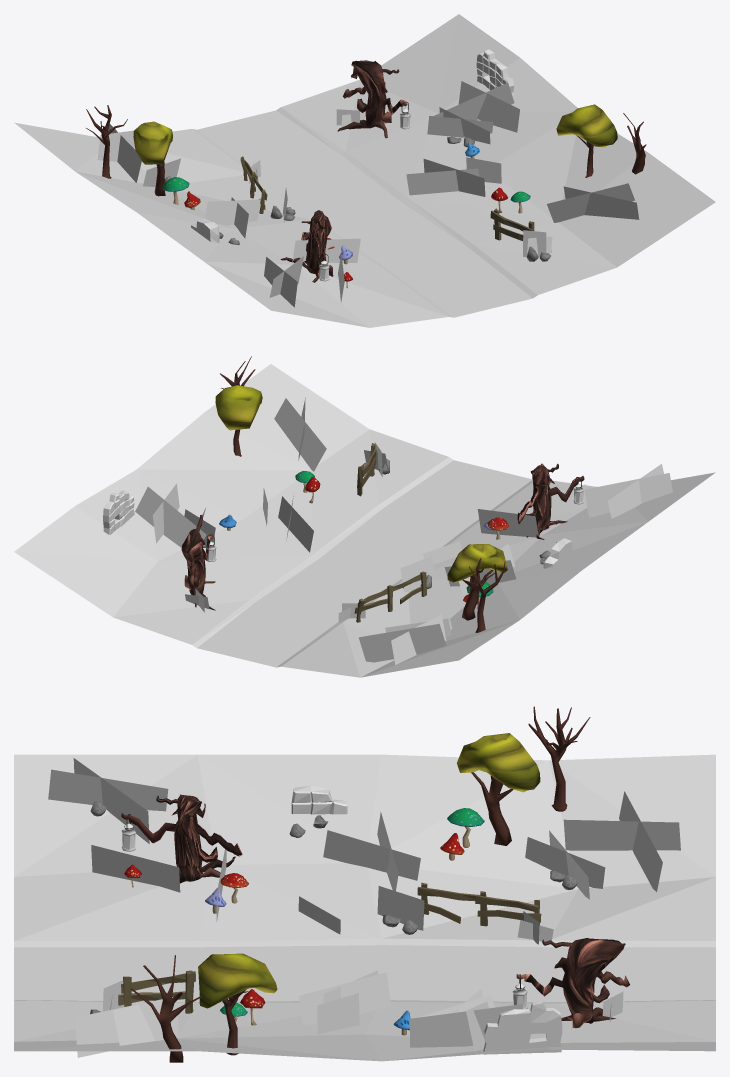
The model's file is environment1.fbx.
3 renders of one model, top to bottom at view 1: azimuth 30°, elevation 25°; view 2: azimuth 150°, elevation 25°; view 3: azimuth 270°, elevation 25°, orthographic. The views are drawn at different scales.
Visible parts, largest first — view 1: zemin1, Cylinder.015, Sphere.001, Cylinder.014, Sphere, Plane.064, Plane.056, Plane.057, Plane.052, Plane.030, Cube.004, Plane.023 (+10 smaller); view 2: zemin1, Plane.048, Cylinder.014, Plane.051, Sphere.001, Plane.057, Plane.063, Sphere, Cylinder.015, Plane.023, Cube.004, LowPolyFence_01 (+8 smaller); view 3: zemin1, Cylinder.015, Cylinder.014, Sphere, Cube.004, Plane.047, Sphere.001, Plane.031, Plane.064, Plane.029, Plane.022, Plane.056 (+18 smaller).
Part boxes in pixels (bbox=[...]): zemin1: bbox=[14, 14, 715, 327]; Cylinder.015: bbox=[337, 60, 407, 138]; Sphere.001: bbox=[556, 104, 617, 147]; Cylinder.014: bbox=[280, 210, 333, 282]; Sphere: bbox=[133, 121, 172, 164]; Plane.064: bbox=[458, 81, 519, 132]; Plane.056: bbox=[563, 186, 639, 219]; Plane.057: bbox=[547, 183, 634, 222]; Plane.052: bbox=[406, 168, 479, 195]; Plane.030: bbox=[205, 199, 260, 225]; Cube.004: bbox=[476, 49, 514, 98]; Plane.023: bbox=[292, 238, 360, 262]; zemin1: bbox=[14, 364, 715, 677]; Plane.048: bbox=[358, 623, 446, 662]; Cylinder.014: bbox=[517, 463, 584, 539]; Plane.051: bbox=[584, 473, 672, 517]; Sphere.001: bbox=[215, 385, 262, 430]; Plane.057: bbox=[274, 398, 326, 471]; Plane.063: bbox=[135, 487, 206, 547]; Sphere: bbox=[447, 544, 507, 582]; Cylinder.015: bbox=[181, 515, 215, 610]; Plane.023: bbox=[477, 509, 538, 537]; Cube.004: bbox=[103, 490, 134, 534]; LowPolyFence_01: bbox=[354, 571, 426, 622]; zemin1: bbox=[14, 754, 715, 1061]; Cylinder.015: bbox=[516, 938, 629, 1028]; Cylinder.014: bbox=[121, 794, 242, 883]; Sphere: bbox=[457, 733, 540, 792]; Cube.004: bbox=[483, 1000, 562, 1054]; Plane.047: bbox=[563, 819, 680, 850]; Sphere.001: bbox=[198, 953, 277, 1008]; Plane.031: bbox=[48, 769, 168, 811]; Plane.064: bbox=[410, 1004, 522, 1047]; Plane.029: bbox=[323, 830, 420, 880]; Plane.022: bbox=[91, 845, 180, 892]; Plane.056: bbox=[75, 997, 179, 1057].
Size of the model in its own units: 2250 by 517 by 2250.
